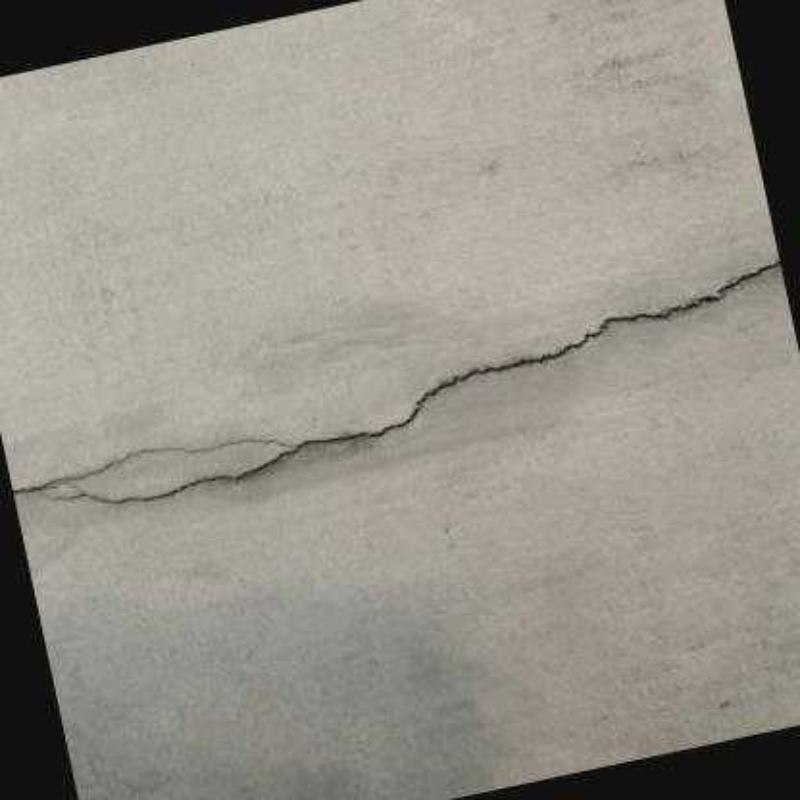pothole: (12, 258, 780, 503)
